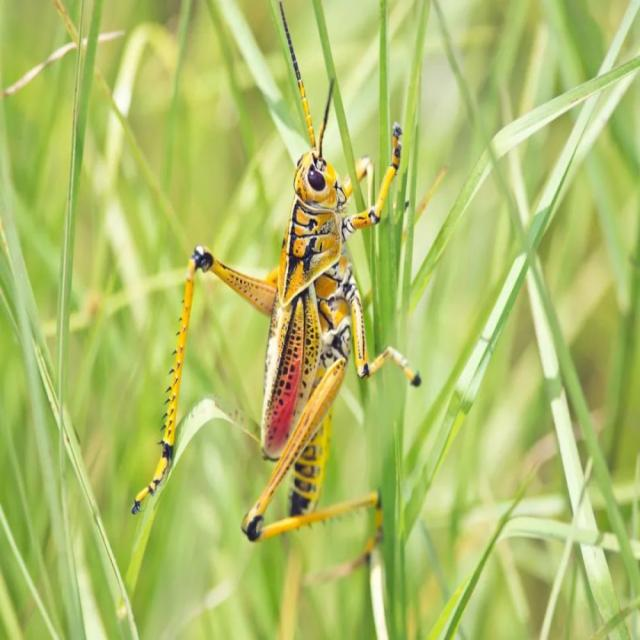ZhaMeng: (242, 99, 410, 560)
